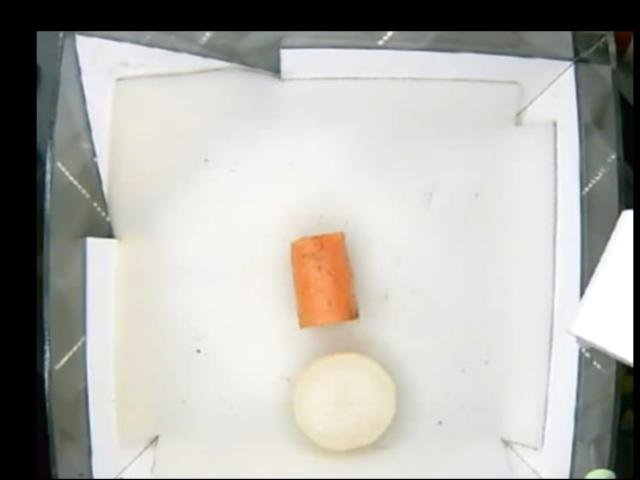Carrot: (288, 232, 359, 327)
China: (292, 351, 399, 449)
